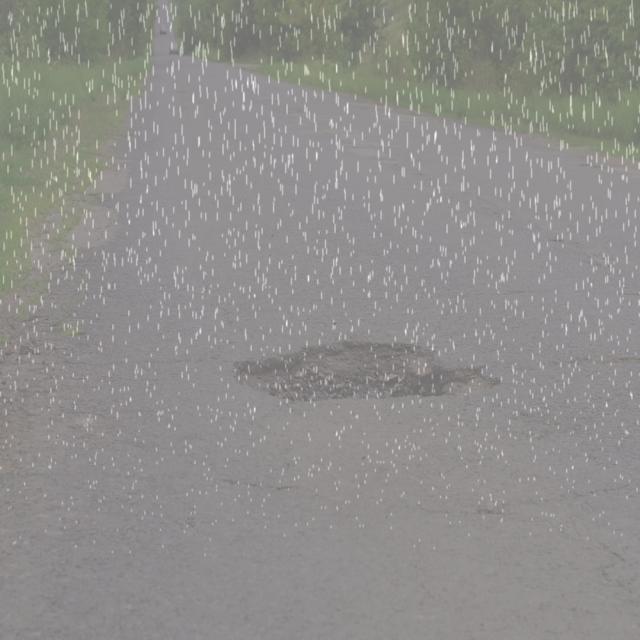Pothole: (225, 331, 502, 411)
